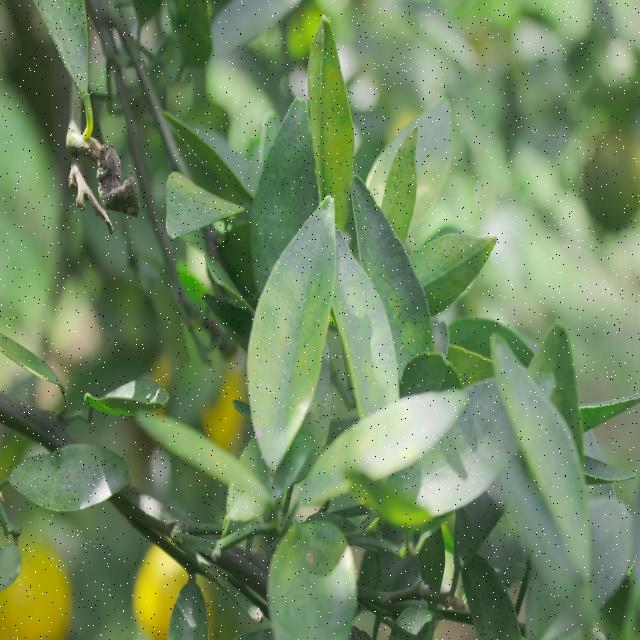blackspot: (250, 236, 335, 443), (418, 225, 496, 323), (16, 454, 112, 533), (306, 44, 352, 205), (376, 118, 429, 230), (170, 173, 220, 231), (50, 0, 91, 60)
